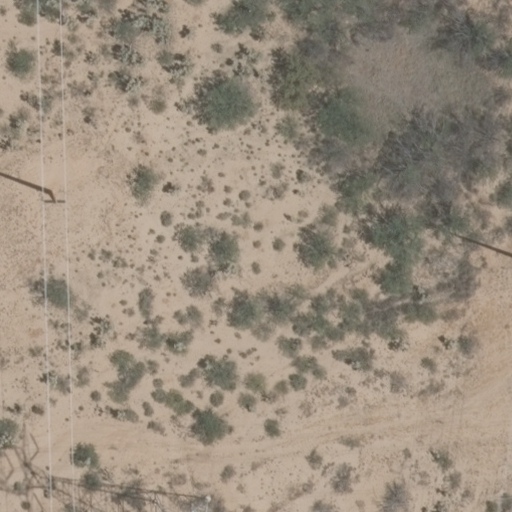DT: (39, 191, 69, 211)
